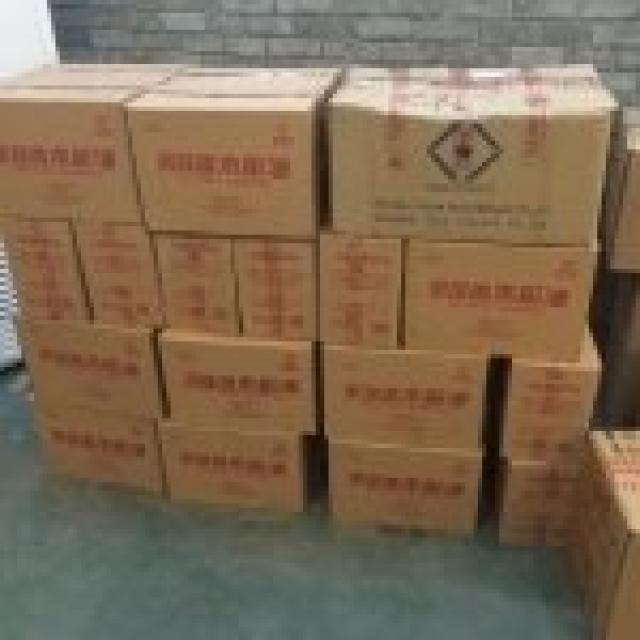box: (324, 64, 619, 247), (119, 64, 346, 243), (0, 64, 183, 226), (401, 239, 597, 363), (154, 333, 320, 435), (563, 431, 640, 640), (324, 350, 486, 448), (329, 439, 482, 542), (13, 320, 166, 422), (495, 316, 602, 461), (154, 422, 316, 512), (30, 401, 171, 499), (68, 222, 162, 333), (149, 230, 243, 337), (491, 448, 589, 546), (0, 218, 94, 320), (320, 235, 401, 350), (230, 239, 320, 341), (597, 107, 640, 269)
